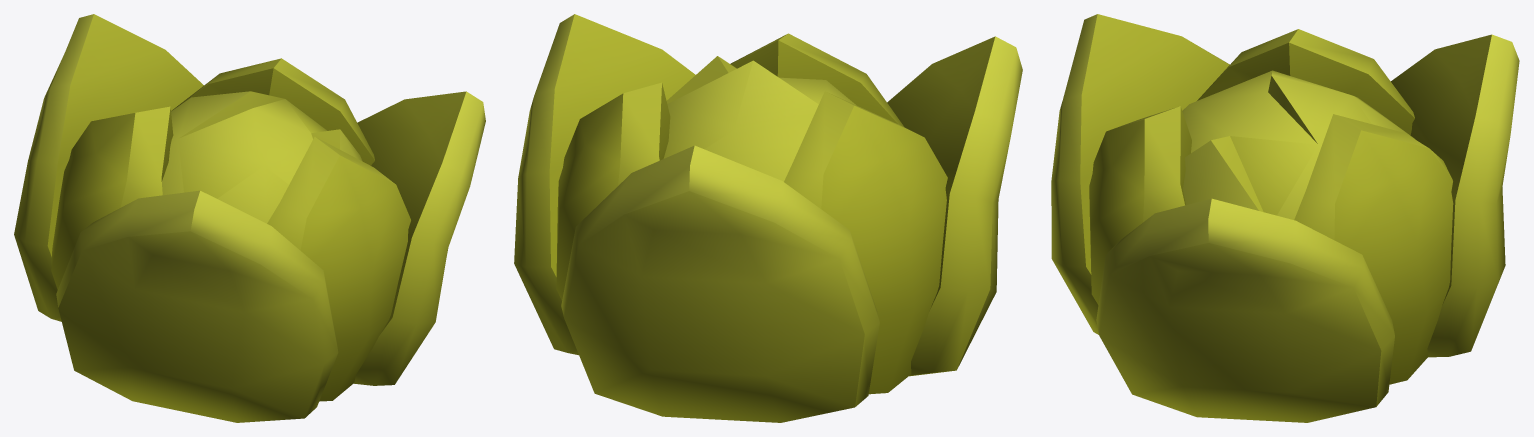
File: lettuce.fbx
3 views of the same model, side by side, from view 1: azimuth 30°, elevation 25°; view 2: azimuth 150°, elevation 25°; view 3: azimuth 270°, elevation 25° (orthographic). The views are drawn at different scales.
Parts seen in each view (by area): view 1: lettuce; view 2: lettuce; view 3: lettuce.
Part boxes in pixels (bbox=[...]): lettuce: bbox=[14, 14, 485, 422]; lettuce: bbox=[514, 14, 1022, 422]; lettuce: bbox=[1051, 14, 1519, 422].
Size of the model in its own units: 1.07 by 0.7619 by 1.01.
